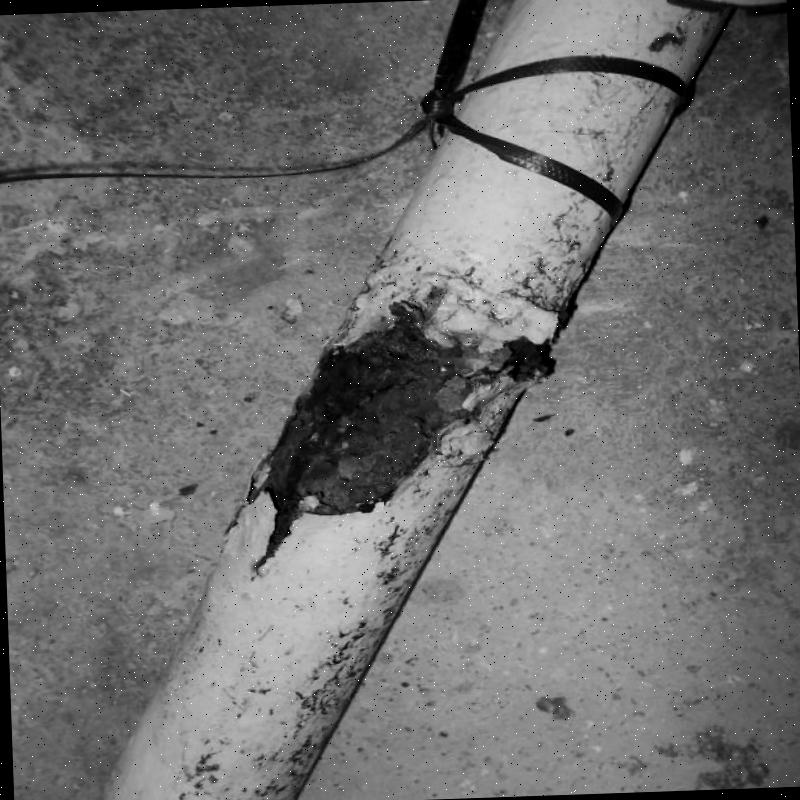Fracture: (282, 327, 440, 496)
